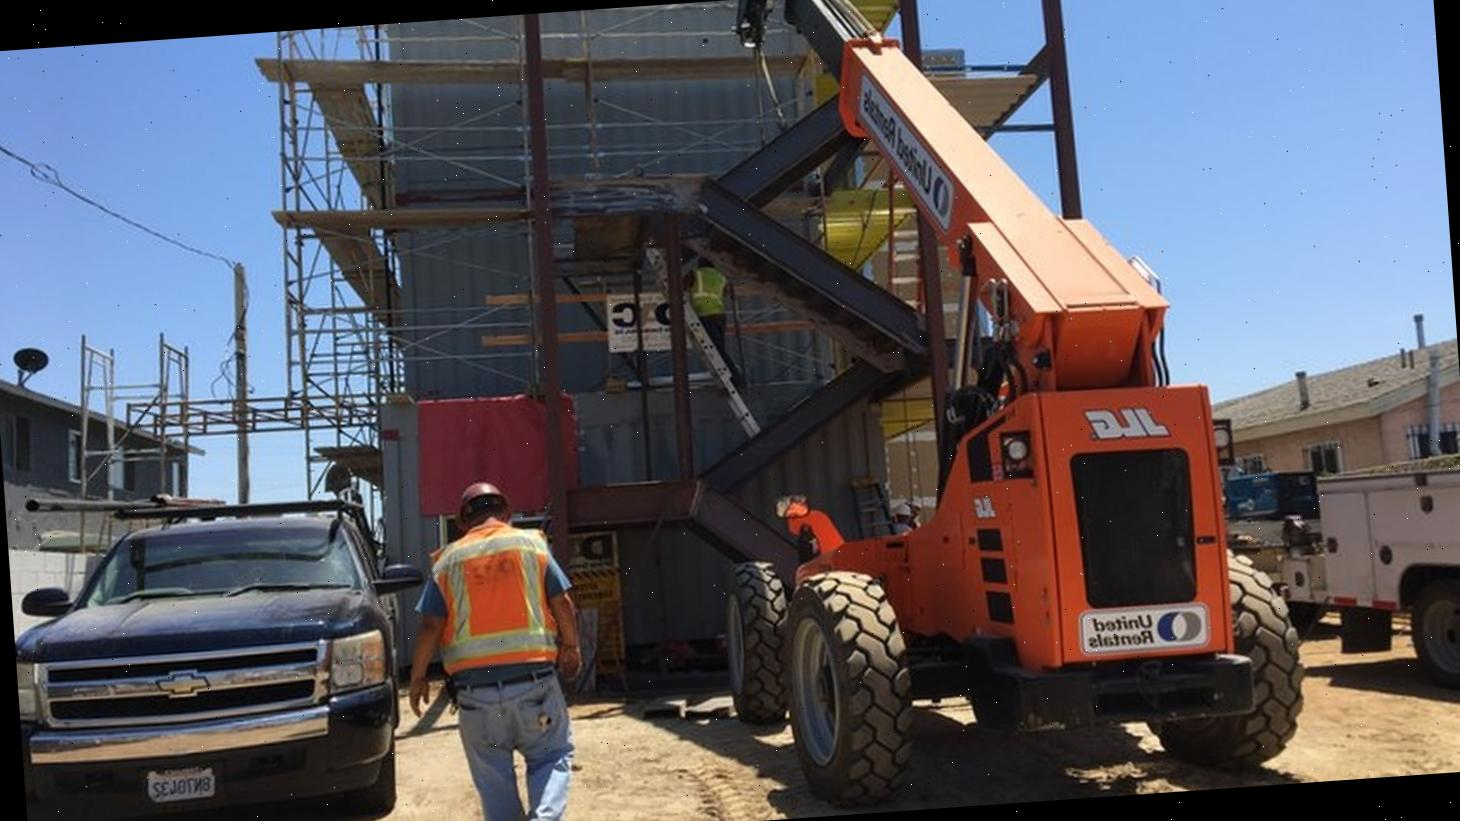helmet: (455, 474, 508, 527)
wear: (430, 531, 562, 679), (691, 265, 731, 317)
